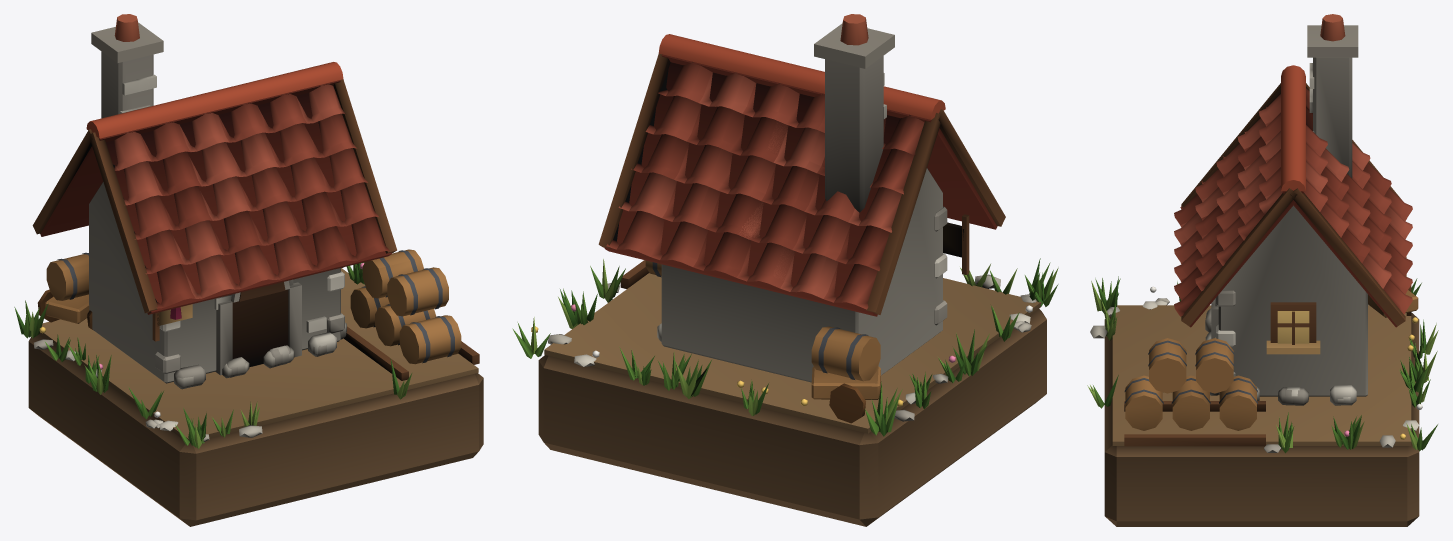
Rendered from winery.glb.
3 renders of one model, left to right at view 1: azimuth 30°, elevation 25°; view 2: azimuth 150°, elevation 25°; view 3: azimuth 270°, elevation 25°, orthographic. The views are drawn at different scales.
Parts seen in each view (by area): view 1: winery_l1, winery_l3, winery_l2; view 2: winery_l1, winery_l3, winery_l2; view 3: winery_l1, winery_l2, winery_l3.
Boxes of the visible parts, bbox=[...] form: winery_l1: bbox=[14, 14, 483, 526]; winery_l3: bbox=[25, 79, 412, 448]; winery_l2: bbox=[45, 74, 448, 437]; winery_l1: bbox=[531, 14, 1058, 526]; winery_l3: bbox=[512, 73, 1058, 435]; winery_l2: bbox=[548, 121, 1032, 408]; winery_l1: bbox=[1098, 14, 1438, 526]; winery_l2: bbox=[1090, 78, 1437, 453]; winery_l3: bbox=[1087, 63, 1437, 451].
Size of the model in its own units: 0.957 by 1.12 by 0.8951.
